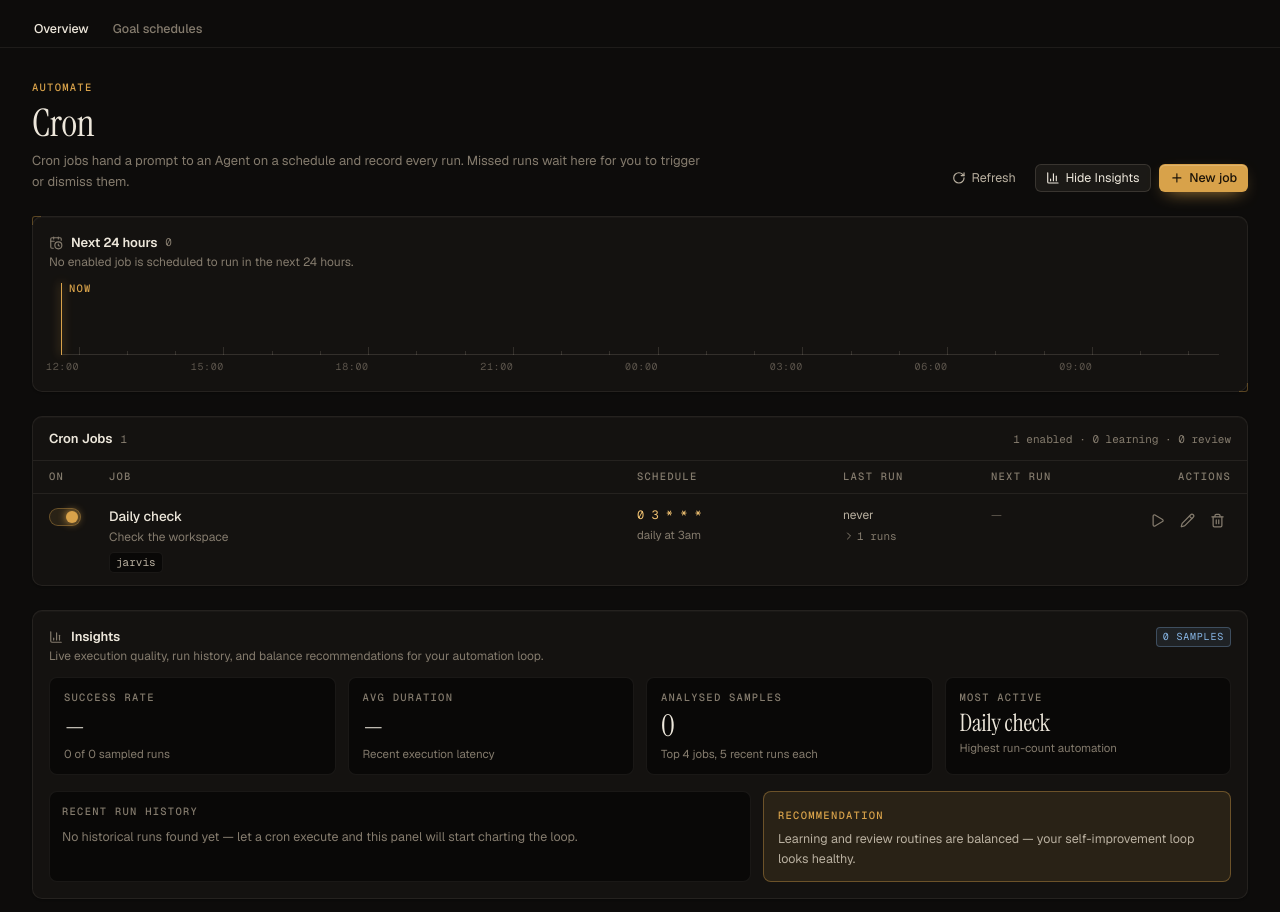
Test: Cron run history resource states › shows No runs yet only after a successful empty history response
The width and height of the screenshot is (1280, 912).
Click the button "1 runs" at [870, 536], box [843,528,897,545]
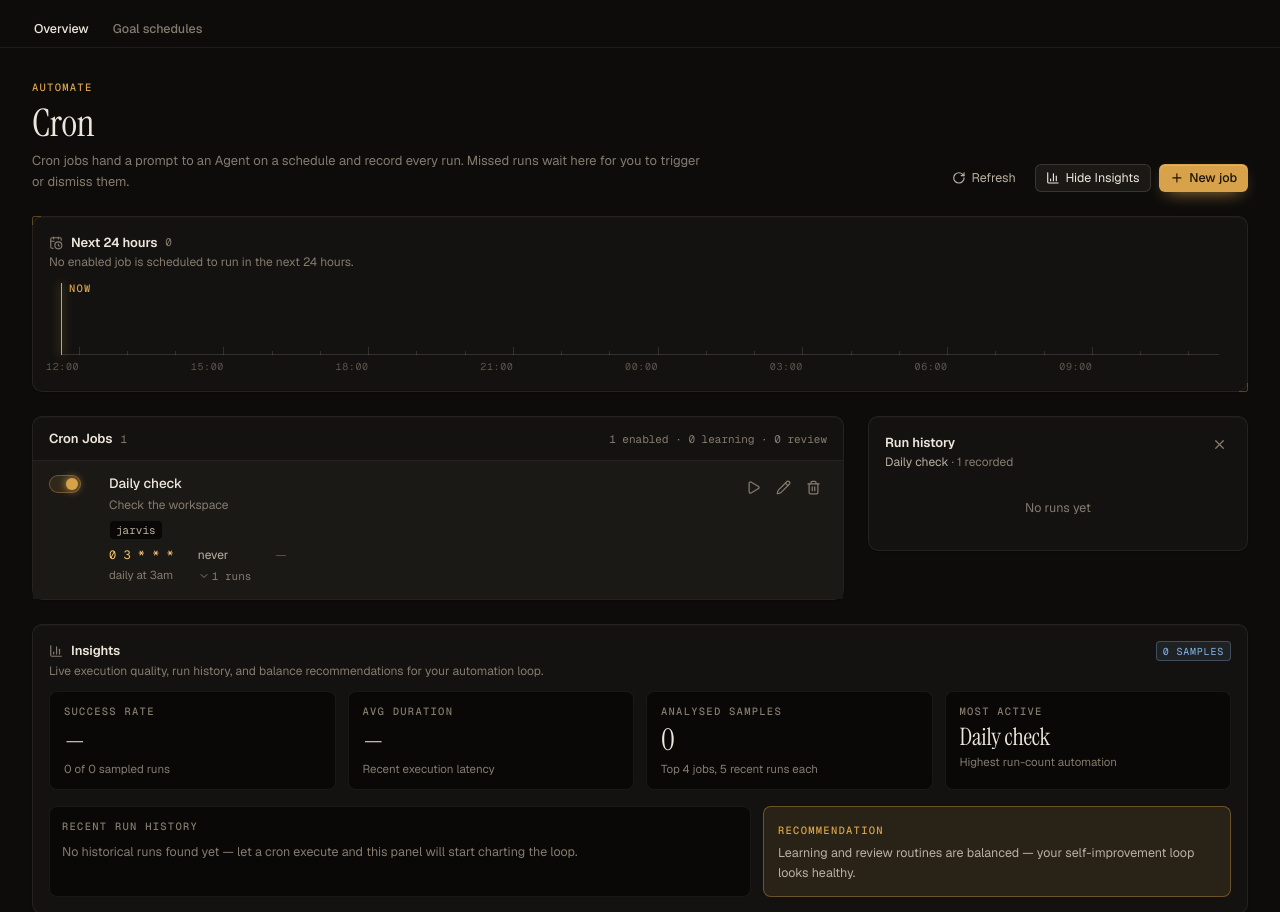
Check: the text "No runs yet" is shown, box [1025,499,1091,516]
